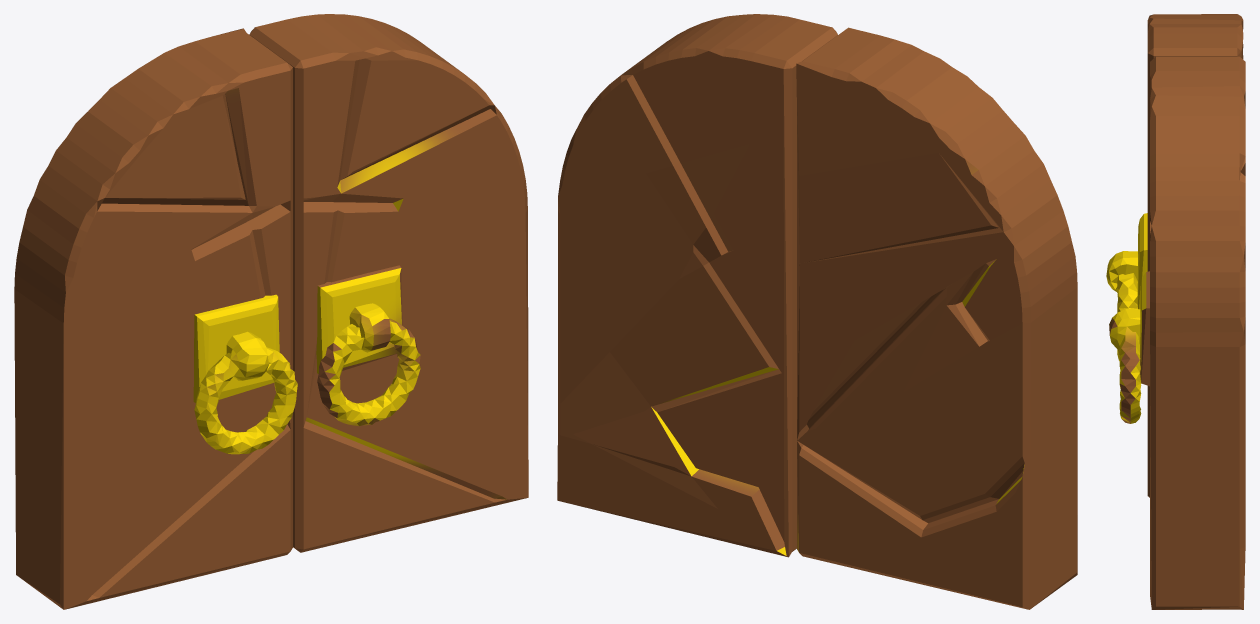
Rendered from DoubleDoors.fbx.
3 views of the same model, side by side, from view 1: azimuth 30°, elevation 25°; view 2: azimuth 150°, elevation 25°; view 3: azimuth 270°, elevation 25° (orthographic). The views are drawn at different scales.
Visible parts, largest first — view 1: Cube, Cube.001; view 2: Cube, Cube.001; view 3: Cube.001, Cube.
Part boxes in pixels (x1,y1,x2,y2): Cube: (14, 28, 297, 609); Cube.001: (249, 14, 528, 552); Cube: (796, 27, 1077, 609); Cube.001: (557, 14, 837, 557); Cube.001: (1109, 56, 1245, 609); Cube: (1106, 14, 1243, 497).
Size of the model in its own units: 378 by 381 by 106.
Materials: 2 (2 with a texture image).
